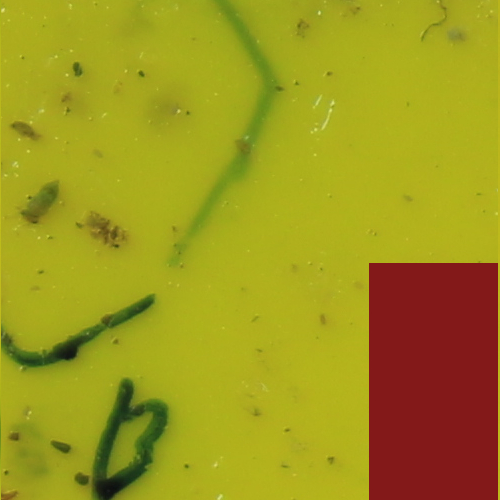psylla: (21, 179, 64, 226)
